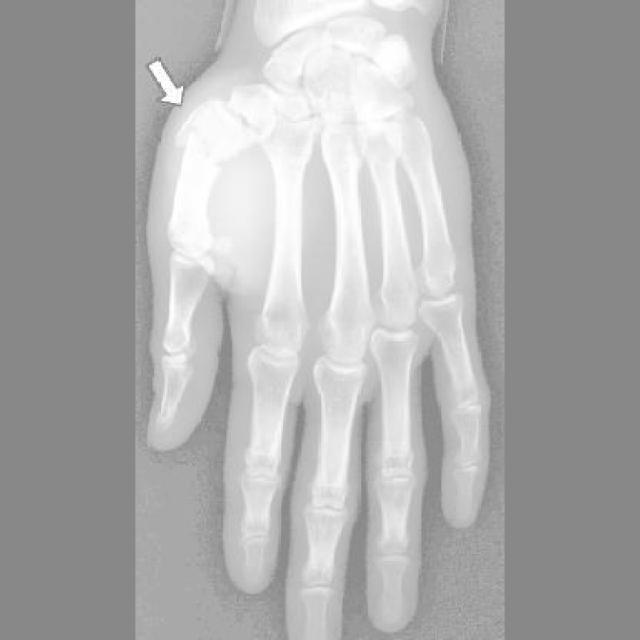Fracture: (169, 97, 262, 171)
